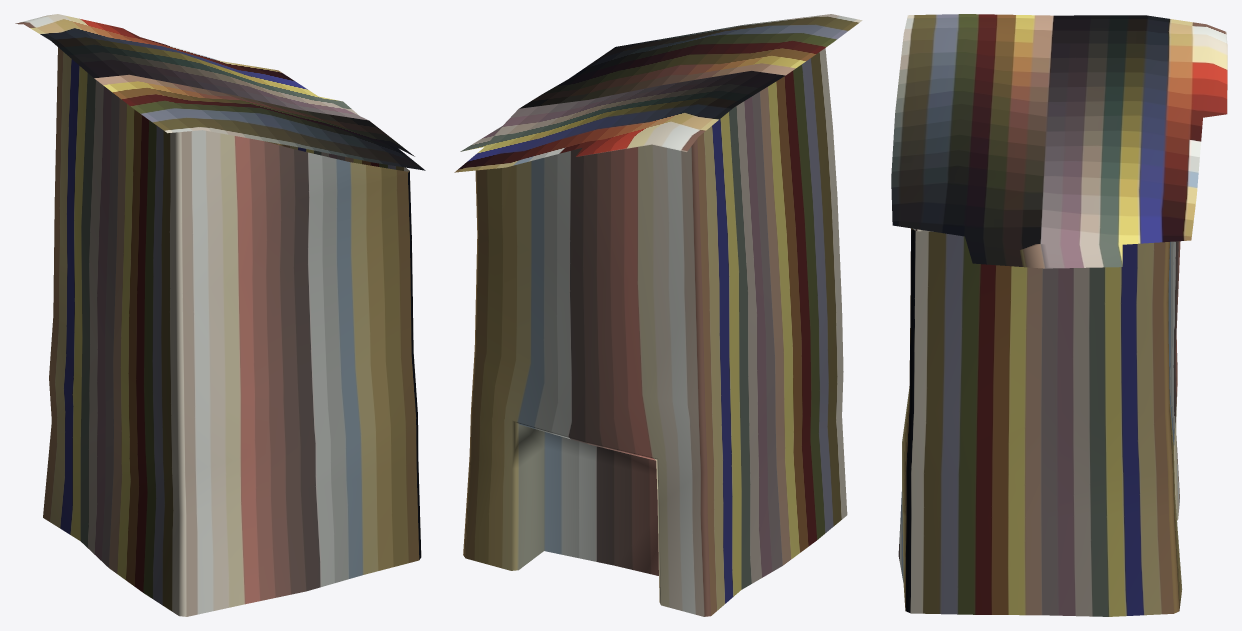
File: MSH_Building_Hole_001.glb
The picture shows the model from 3 angles, left to right: view 1: azimuth 30°, elevation 25°; view 2: azimuth 150°, elevation 25°; view 3: azimuth 270°, elevation 25°; orthographic projection. The views are drawn at different scales.
Visible parts, largest first — view 1: MSH_Building_001.001; view 2: MSH_Building_001.001; view 3: MSH_Building_001.001.
Part boxes in pixels (left/top/right/bottom): MSH_Building_001.001: left=15, top=14, right=425, bottom=616; MSH_Building_001.001: left=454, top=14, right=862, bottom=616; MSH_Building_001.001: left=891, top=14, right=1227, bottom=616.
Bounding box in the file's own units: 6.04 × 9.85 × 6.28.
Materials: 1 (1 with a texture image).
